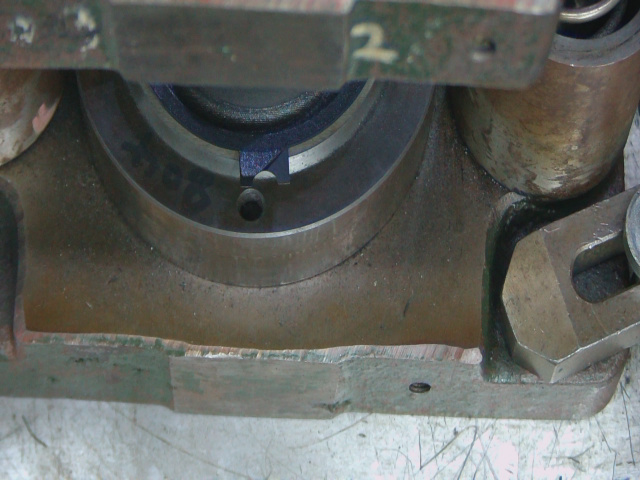NG: (238, 140, 302, 196)
